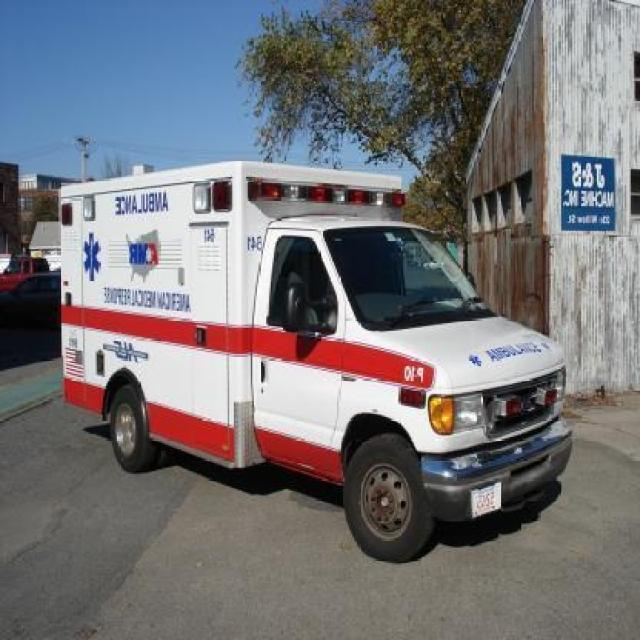Van: (47, 163, 581, 562)
